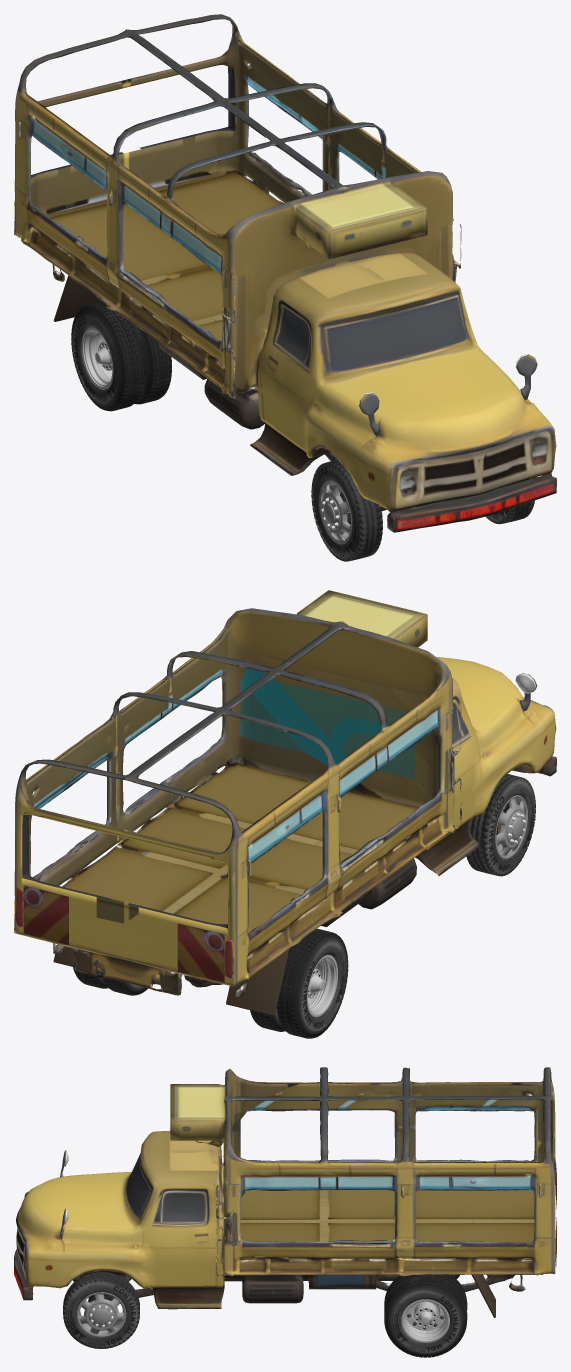
Rendered from Isuzu_TX_Lorry.glb.
The picture shows the model from 3 angles, top to bottom: view 1: azimuth 30°, elevation 25°; view 2: azimuth 150°, elevation 25°; view 3: azimuth 270°, elevation 25°; orthographic projection. The views are drawn at different scales.
Visible parts, largest first — view 1: model.057, Wheel.Bk.L.003, wheel.Ft.L.004, model.058; view 2: model.057, Wheel.Bk.L.003, wheel.Ft.L.004, Wheel.Bk.L.002; view 3: model.057, Wheel.Bk.L.002, wheel.Ft.L.003.
Boxes of the visible parts, x1,y1,x2,y2 form: model.057: (14, 14, 556, 532); Wheel.Bk.L.003: (71, 301, 171, 411); wheel.Ft.L.004: (311, 459, 382, 561); model.058: (359, 354, 537, 436); model.057: (14, 590, 556, 1015); Wheel.Bk.L.003: (250, 928, 348, 1038); wheel.Ft.L.004: (466, 774, 535, 876); Wheel.Bk.L.002: (73, 967, 147, 995); model.057: (14, 1067, 556, 1317); Wheel.Bk.L.002: (384, 1274, 467, 1357); wheel.Ft.L.003: (63, 1271, 139, 1348).
Bounding box in the file's own units: 2.11 × 2.51 × 5.61.
12 materials, 4 textured.
